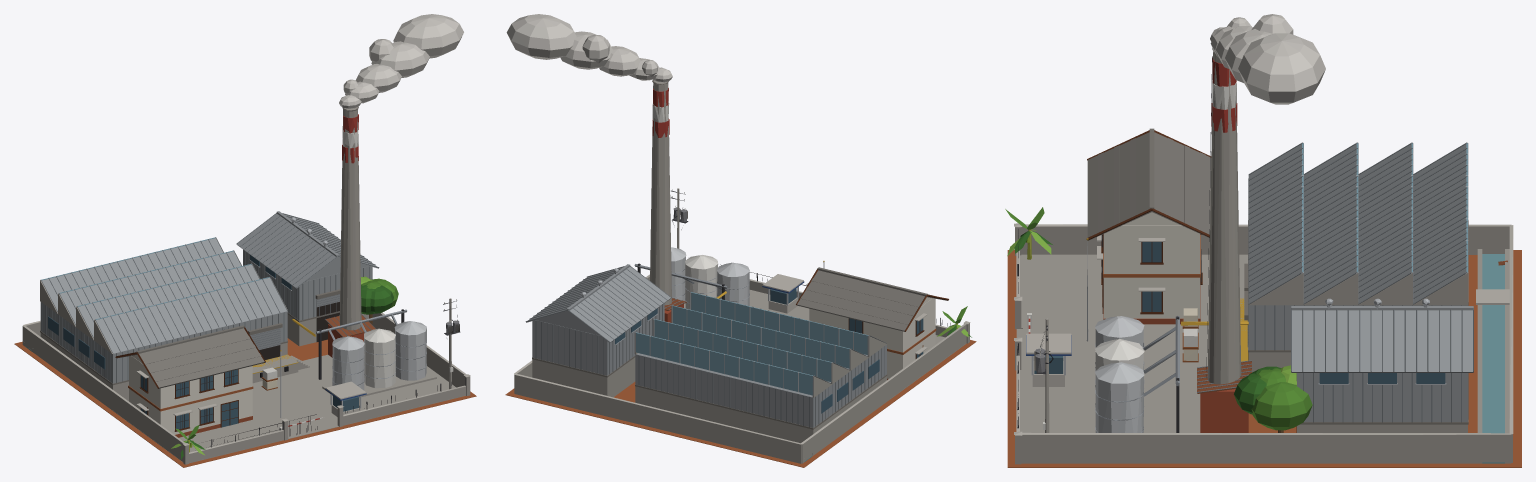
File: factory_4.glb
3 views of the same model, side by side, from view 1: azimuth 30°, elevation 25°; view 2: azimuth 150°, elevation 25°; view 3: azimuth 270°, elevation 25° (orthographic). The views are drawn at different scales.
Visible parts, largest first — view 1: body, windows; view 2: body, windows; view 3: body, windows.
Boxes of the visible parts, x1,y1,x2,y2 form: body: (14,14,476,467); windows: (48,255,358,429); body: (505,14,976,467); windows: (615,288,923,413); body: (1005,14,1521,467); windows: (1034,242,1445,432).
Bounding box in the file's own units: 40.15 × 31.4 × 32.07.
